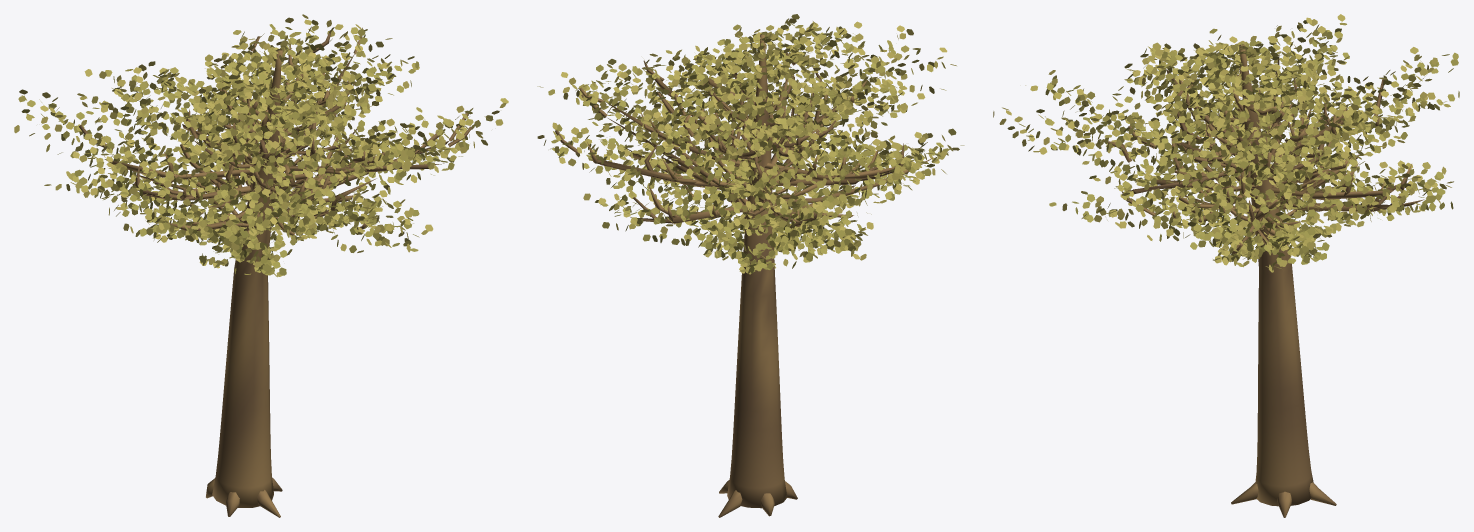
The model's file is golden_broadleaf_lod1.glb.
3 renders of one model, left to right at view 1: azimuth 30°, elevation 25°; view 2: azimuth 150°, elevation 25°; view 3: azimuth 270°, elevation 25°, orthographic. The views are drawn at different scales.
Parts seen in each view (by area): view 1: Leaves.001, Trunk.001; view 2: Leaves.001, Trunk.001; view 3: Leaves.001, Trunk.001.
Part boxes in pixels (x1,y1,x2,y2): Leaves.001: (14, 14, 508, 277); Trunk.001: (79, 27, 471, 517); Leaves.001: (537, 14, 964, 275); Trunk.001: (555, 34, 933, 517); Leaves.001: (993, 14, 1459, 272); Trunk.001: (1099, 44, 1424, 517).
Bounding box in the file's own units: 5.26 × 5.51 × 5.03.
